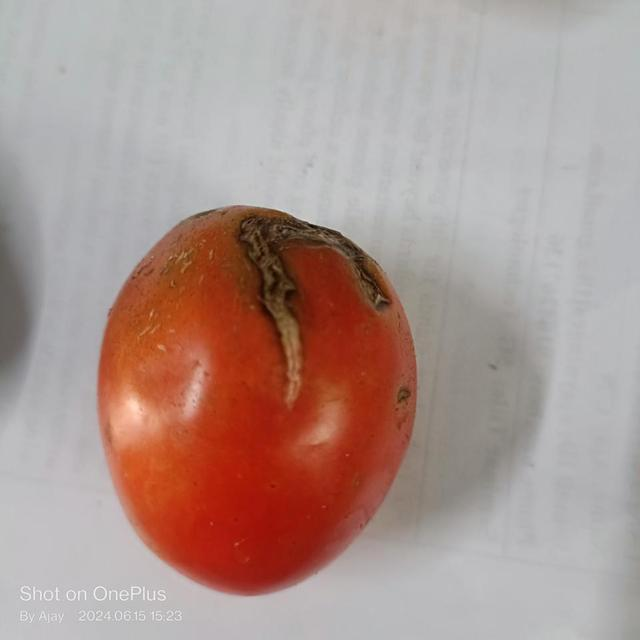Cracking Fruit: (141, 84, 326, 224)
